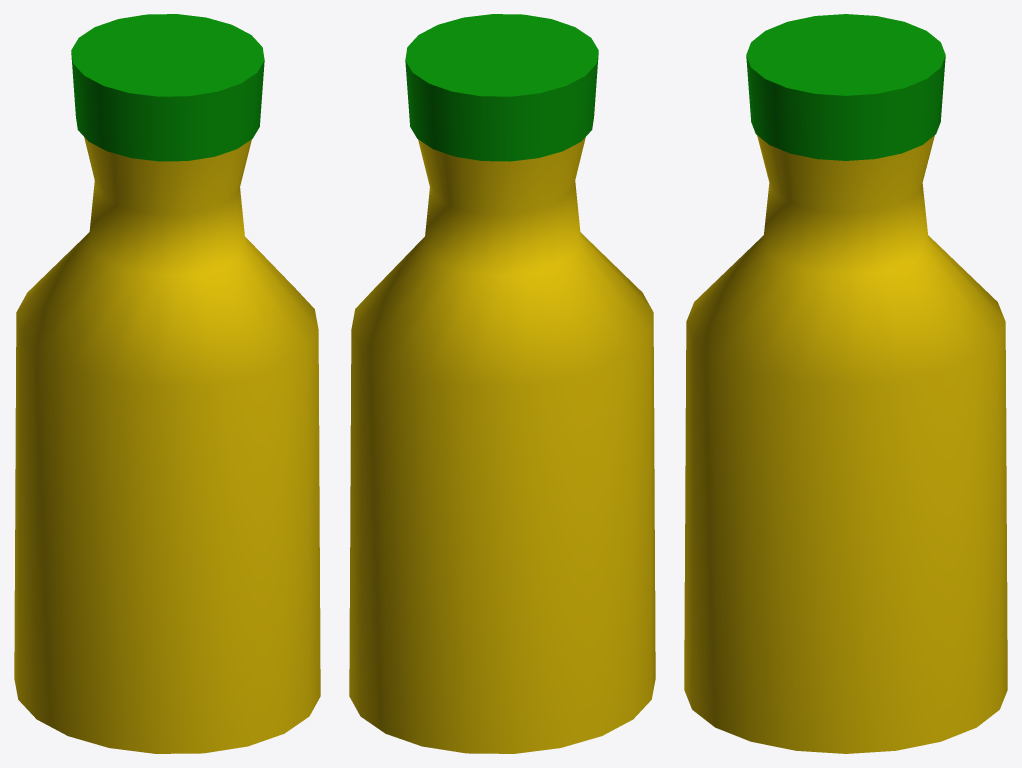
Rendered from juice.fbx.
3 views of the same model, side by side, from view 1: azimuth 30°, elevation 25°; view 2: azimuth 150°, elevation 25°; view 3: azimuth 270°, elevation 25° (orthographic).
Visible parts, largest first — view 1: new_juice; view 2: new_juice; view 3: new_juice.
Boxes of the visible parts, x1,y1,x2,y2 form: new_juice: (14,14,320,753); new_juice: (349,14,655,753); new_juice: (684,14,1007,753).
Bounding box in the file's own units: 0.3203 × 0.7394 × 0.3414.
